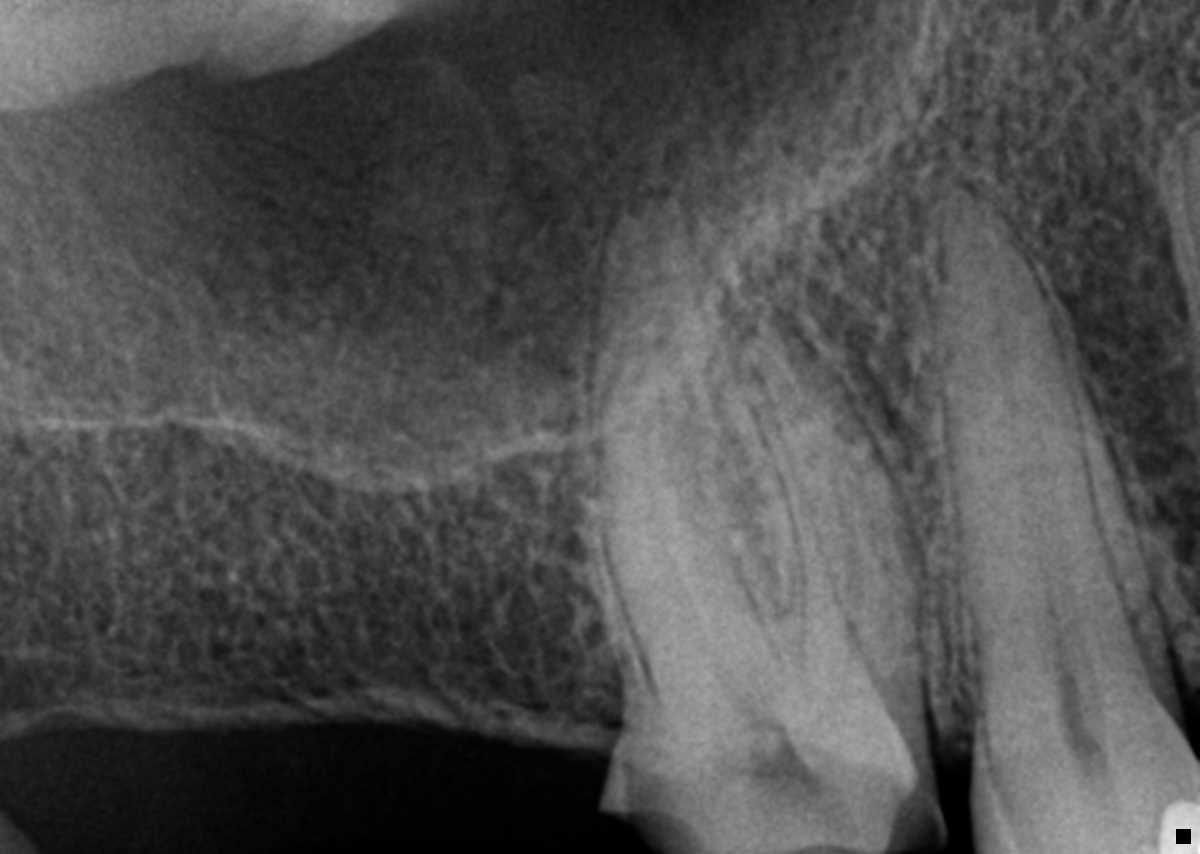Distal Root: (595, 340, 774, 695)
Main Canal: (979, 262, 1093, 679)
Main Root: (936, 188, 1164, 701)
Mesial Root: (736, 323, 925, 681)
Palatal Root: (588, 192, 856, 690)
